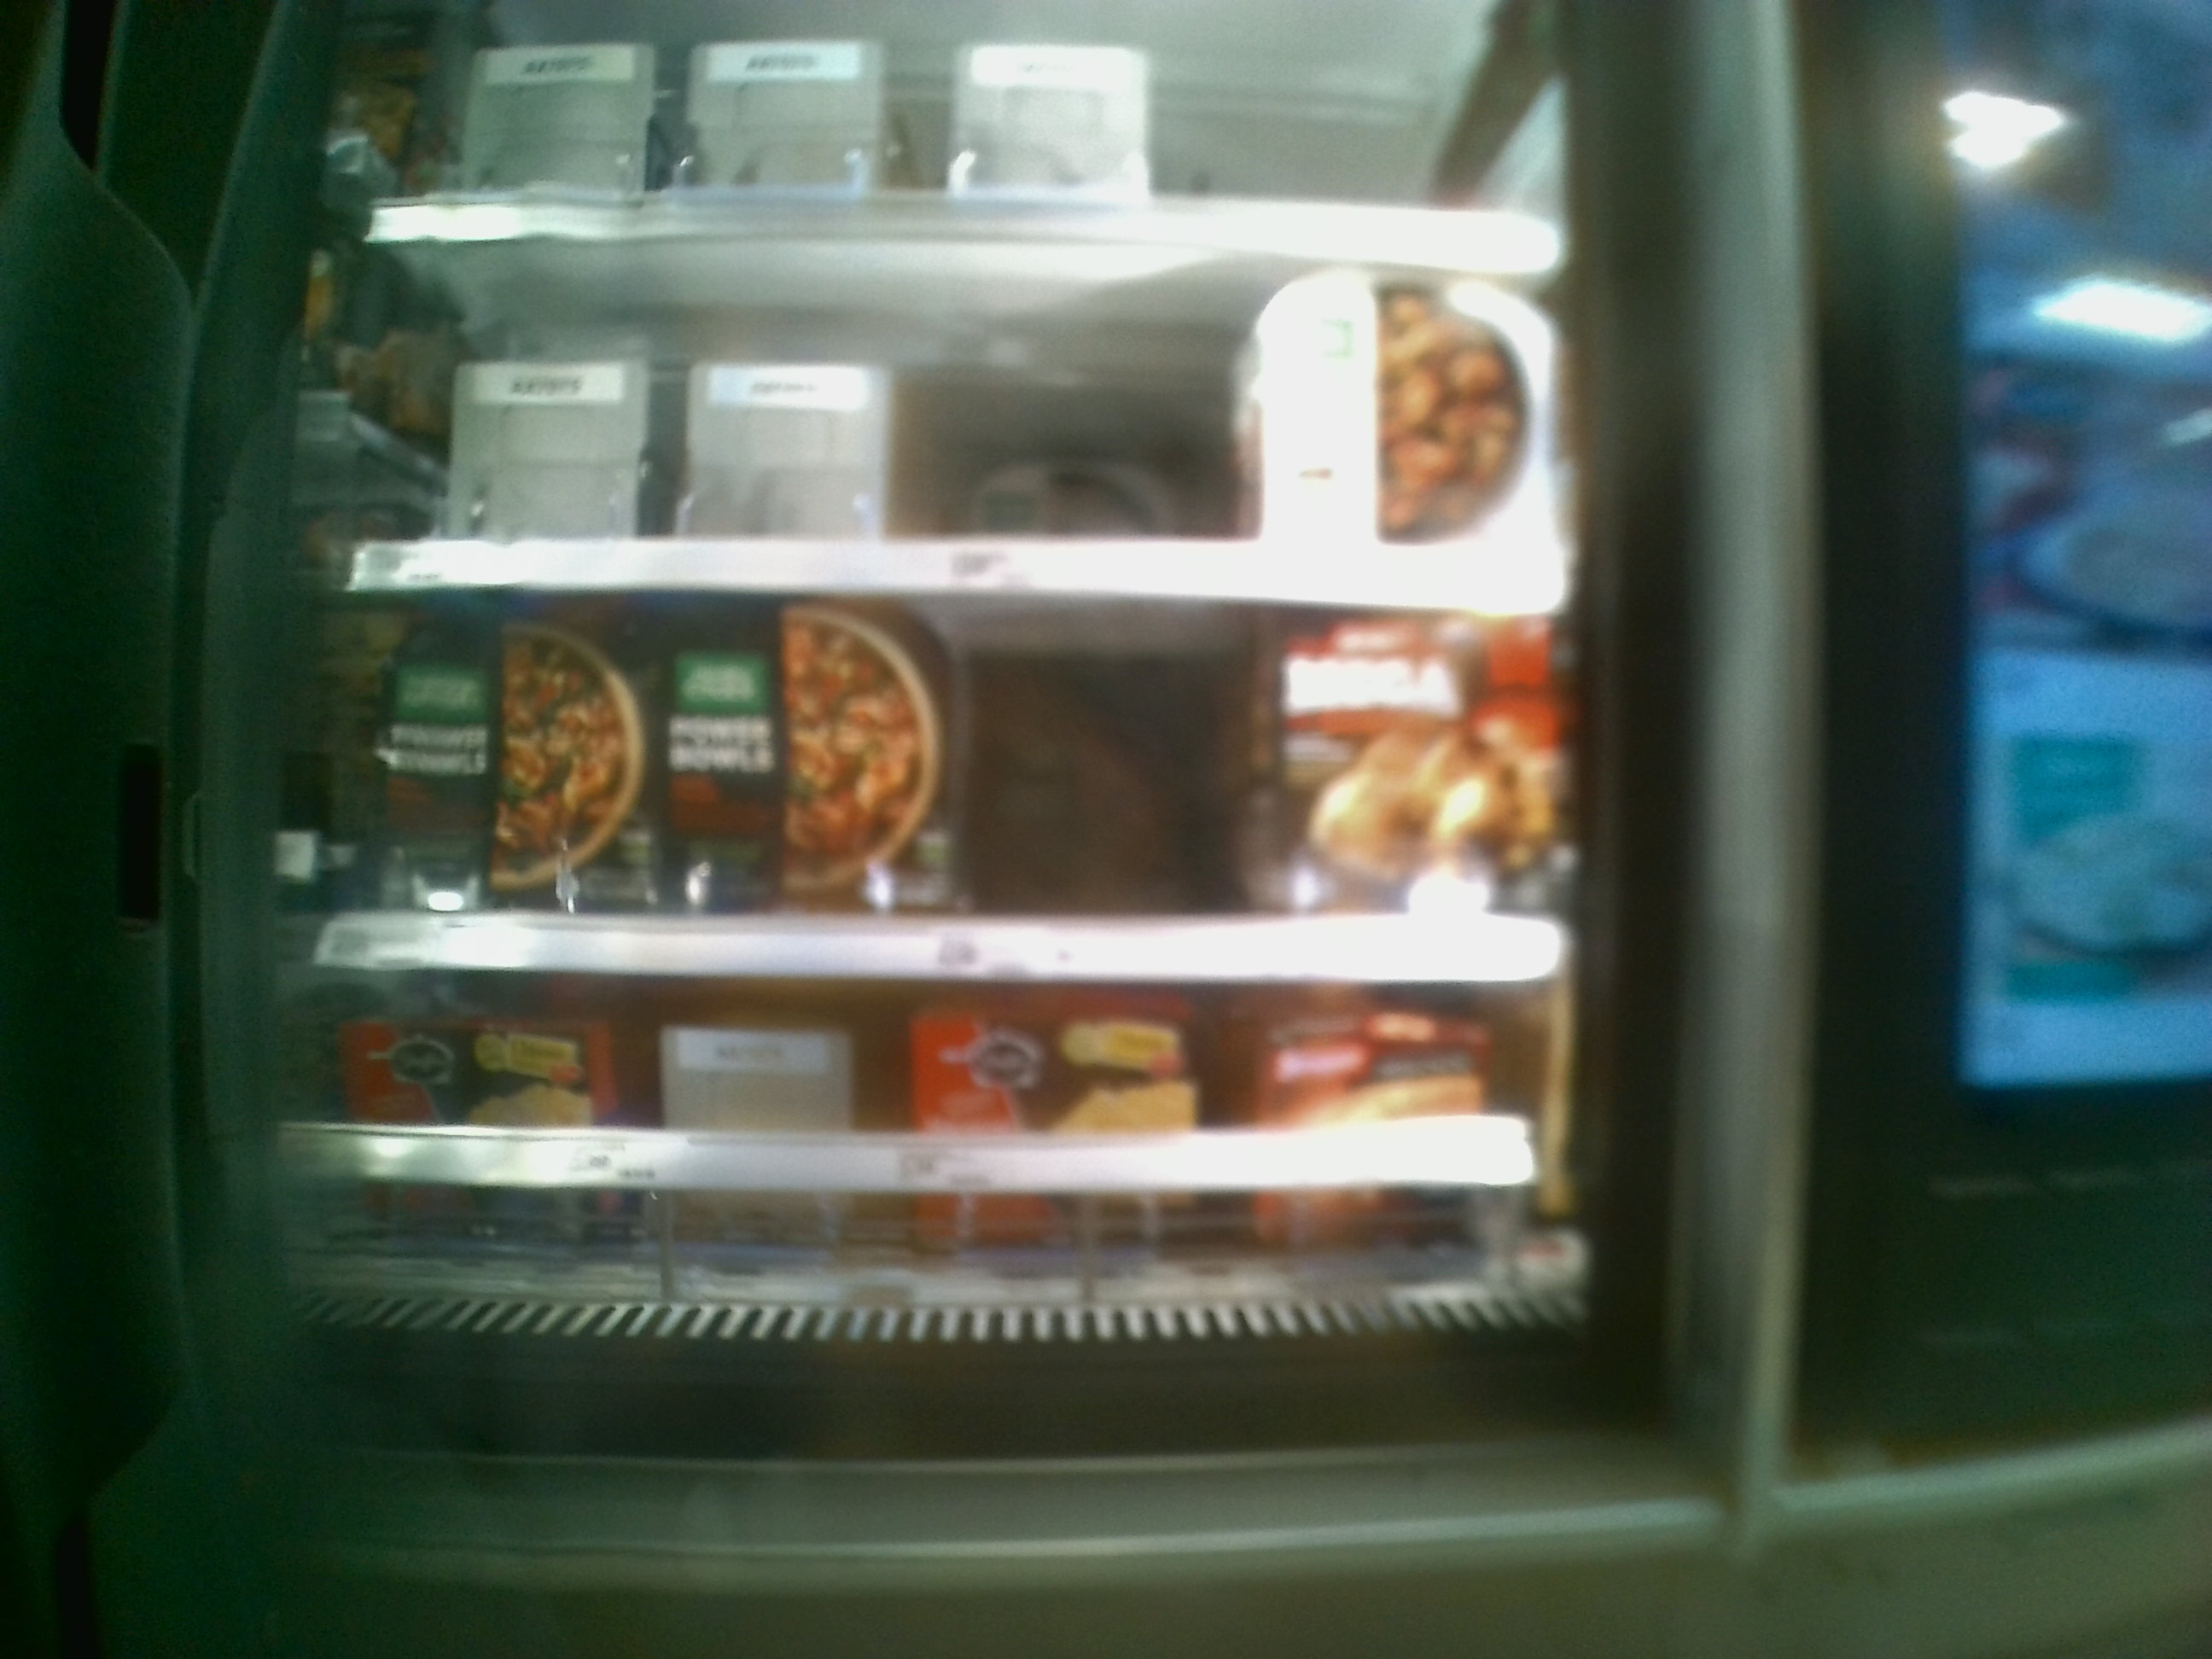shelf: (296, 979, 1595, 1371), (334, 591, 1564, 983), (341, 232, 1569, 606)
